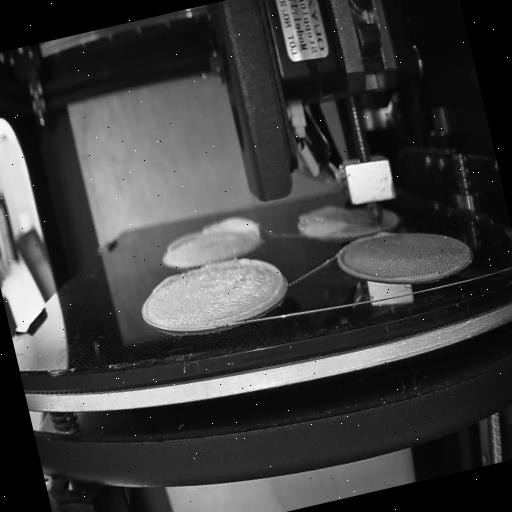over_extrusion: (213, 248, 291, 322), (200, 211, 266, 252), (294, 202, 344, 226), (148, 271, 186, 296), (164, 230, 202, 255), (371, 226, 399, 242)
